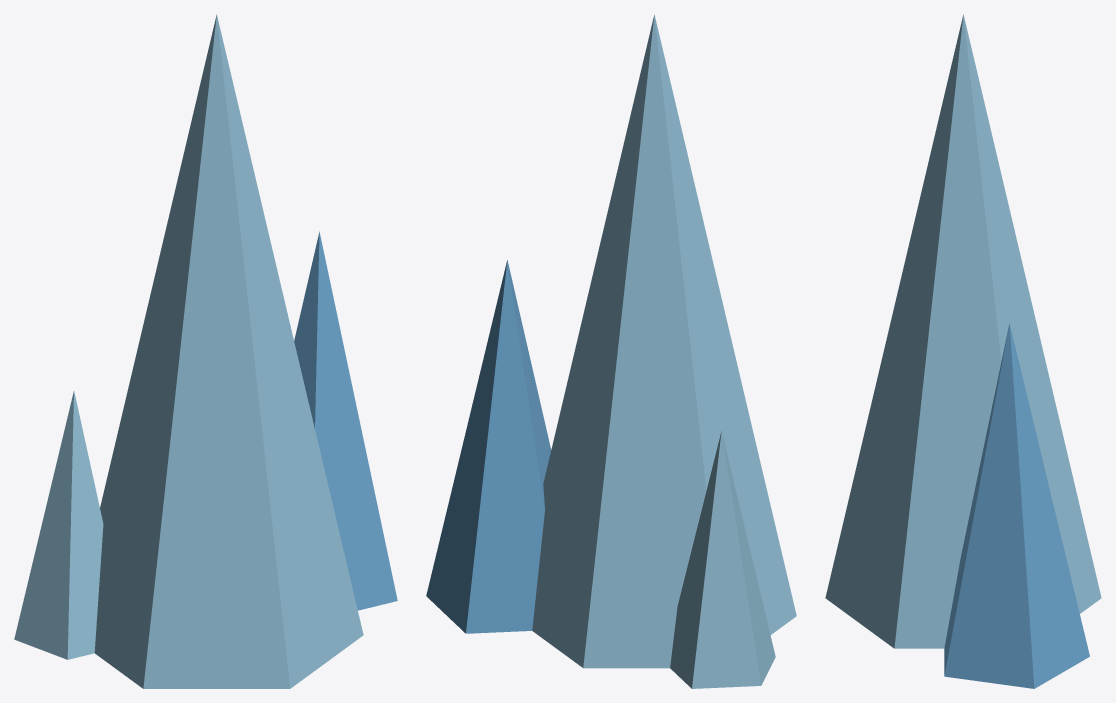
The model's file is stalagmite_large.fbx.
3 views of the same model, side by side, from view 1: azimuth 30°, elevation 25°; view 2: azimuth 150°, elevation 25°; view 3: azimuth 270°, elevation 25° (orthographic). The views are drawn at different scales.
Parts seen in each view (by area): view 1: stalagmite_large; view 2: stalagmite_large; view 3: stalagmite_large.
Part boxes in pixels (left/top/right/bottom): stalagmite_large: left=14, top=14, right=397, bottom=688; stalagmite_large: left=426, top=14, right=796, bottom=688; stalagmite_large: left=825, top=14, right=1101, bottom=688.
Bounding box in the file's own units: 1.67 × 2.8 × 1.2.
